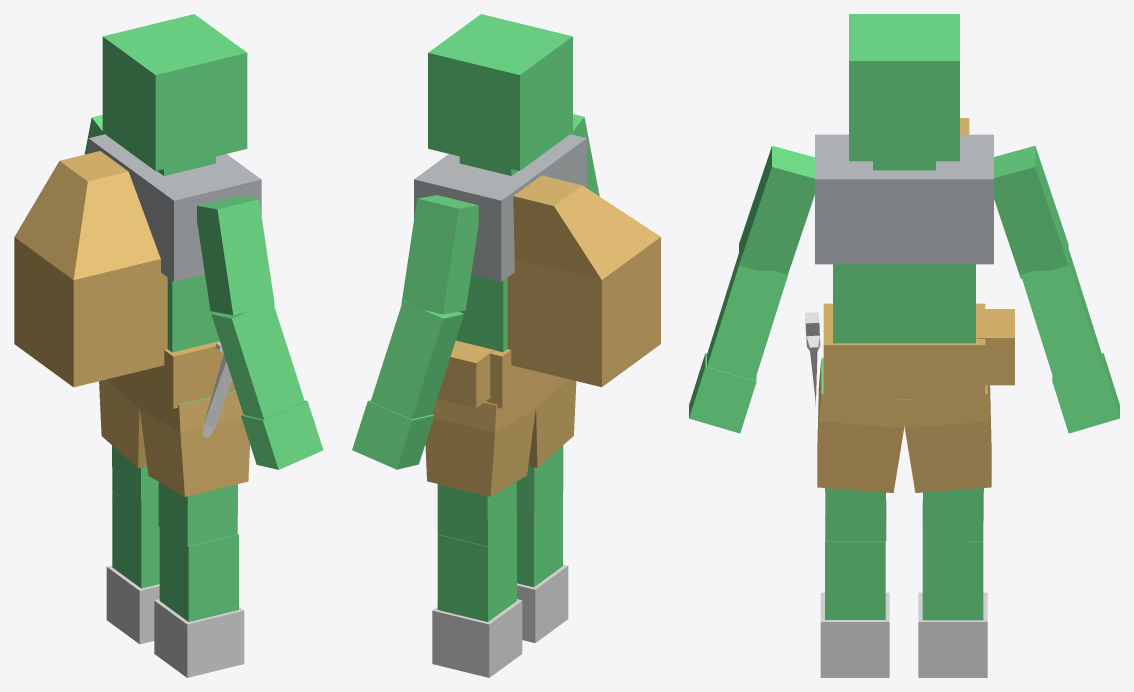
File: gold_goblin.fbx
3 views of the same model, side by side, from view 1: azimuth 30°, elevation 25°; view 2: azimuth 150°, elevation 25°; view 3: azimuth 270°, elevation 25° (orthographic). The views are drawn at different scales.
Visible parts, largest first — view 1: Cube.106, Cube.108, Cube.116, Cube.122, Cube.107, Cube.111, Cube.109, Cube.118, Cube.112, Cube.119, Cube.110, Cube.115 (+3 smaller); view 2: Cube.106, Cube.108, Cube.118, Cube.122, Cube.121, Cube.120, Cube.115, Cube.116, Cube.113, Cube.114, Cube.109, Cube.123 (+4 smaller); view 3: Cube.122, Cube.108, Cube.123, Cube.116, Cube.118, Cube.119, Cube.107, Cube.121, Cube.120, Cube.111, Cube.115, Cube.109 (+6 smaller).
Boxes of the visible parts, <box> form: Cube.106: <box>14,151,167,387</box>; Cube.108: <box>102,14,247,170</box>; Cube.116: <box>138,384,249,546</box>; Cube.122: <box>88,134,261,281</box>; Cube.107: <box>197,195,274,315</box>; Cube.111: <box>211,305,304,419</box>; Cube.109: <box>159,527,238,621</box>; Cube.118: <box>99,374,158,512</box>; Cube.112: <box>154,599,244,677</box>; Cube.119: <box>126,341,235,408</box>; Cube.110: <box>241,400,323,469</box>; Cube.115: <box>112,492,159,588</box>; Cube.106: <box>507,175,660,387</box>; Cube.108: <box>428,14,572,170</box>; Cube.118: <box>425,385,536,546</box>; Cube.122: <box>414,134,586,281</box>; Cube.121: <box>401,195,478,314</box>; Cube.120: <box>370,301,463,419</box>; Cube.115: <box>437,526,516,621</box>; Cube.116: <box>516,374,576,512</box>; Cube.113: <box>432,599,522,677</box>; Cube.114: <box>352,400,434,469</box>; Cube.109: <box>516,492,562,587</box>; Cube.123: <box>456,274,507,352</box>; Cube.122: <box>815,134,993,264</box>; Cube.108: <box>849,14,959,161</box>; Cube.123: <box>833,264,975,343</box>; Cube.116: <box>817,358,906,541</box>; Cube.118: <box>902,385,991,541</box>; Cube.119: <box>823,303,985,399</box>; Cube.107: <box>739,145,814,274</box>; Cube.121: <box>994,146,1068,278</box>; Cube.120: <box>1021,249,1101,380</box>; Cube.111: <box>707,253,788,380</box>; Cube.115: <box>922,541,983,620</box>; Cube.109: <box>825,516,885,619</box>.
Size of the model in its own units: 209 by 668 by 417.
